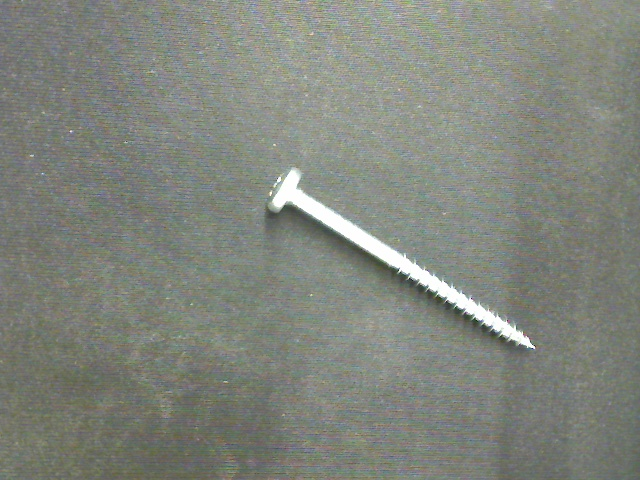Screw: (267, 166, 535, 349)
